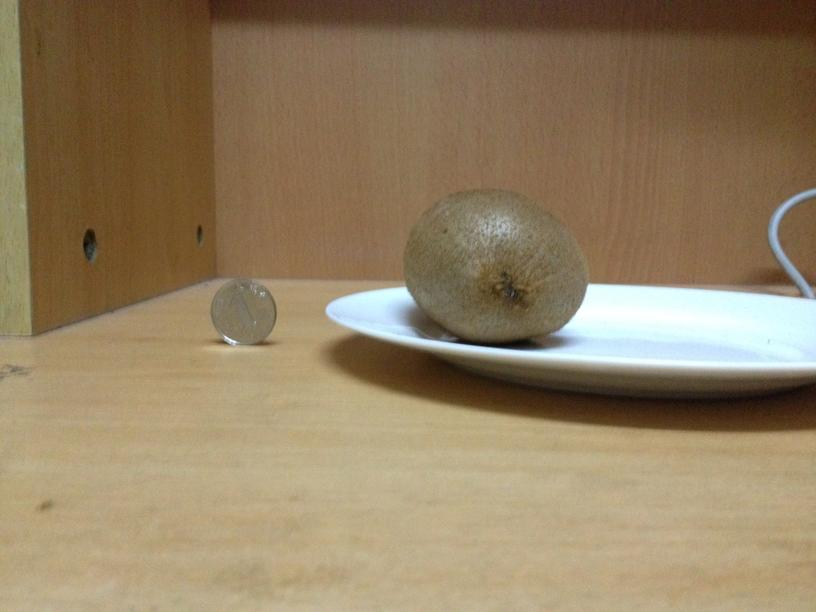coin: (208, 280, 278, 344)
qiwi: (406, 189, 588, 344)
